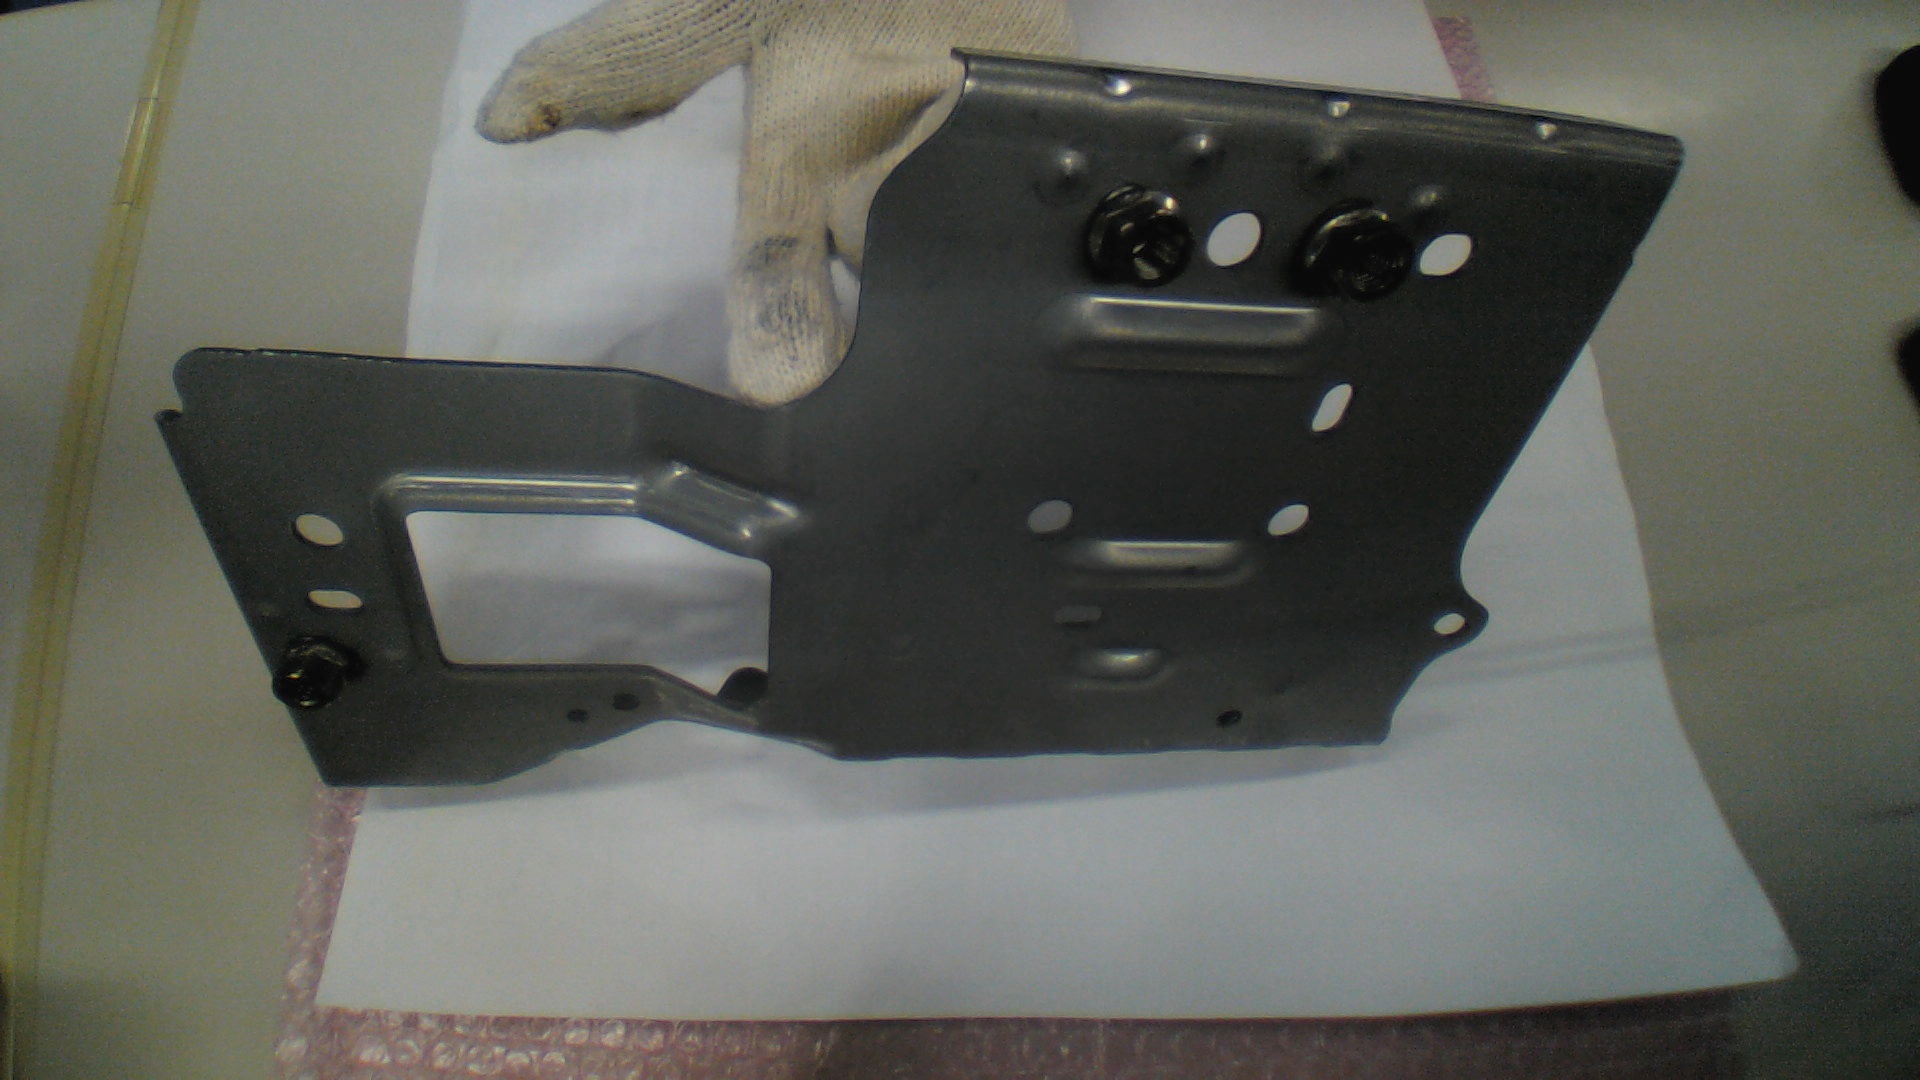dog: (1294, 200, 1414, 305), (1080, 183, 1195, 289), (273, 632, 360, 709)
